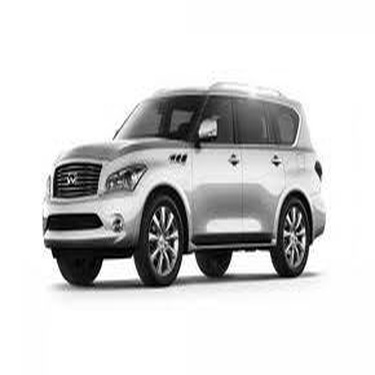car: (35, 70, 337, 287)
